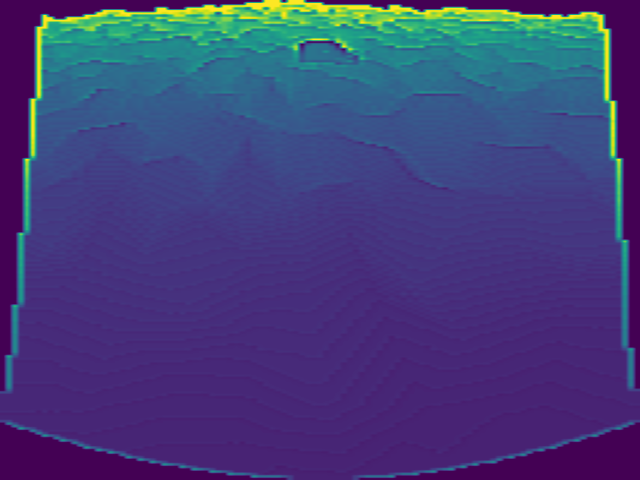car_0198: (296, 38, 361, 67)
